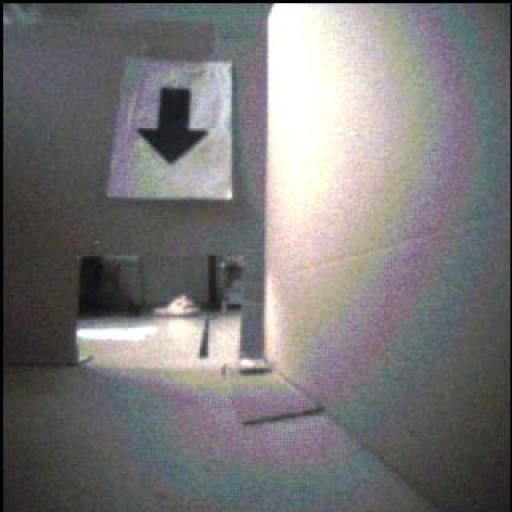arrow: (141, 89, 208, 164)
